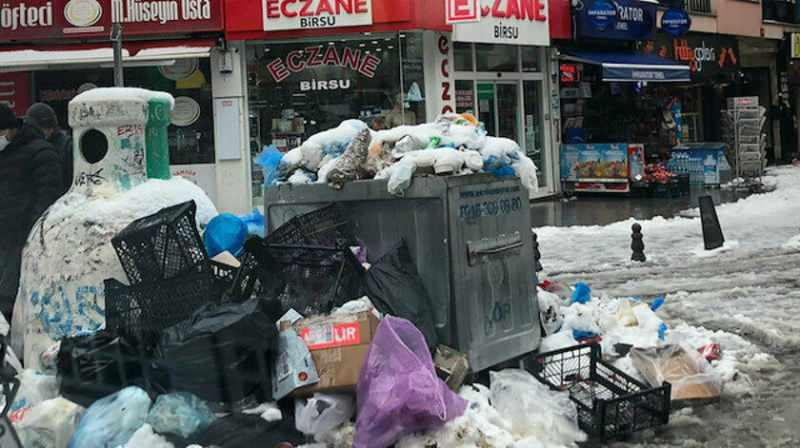Container: (264, 181, 548, 365)
Garbage: (258, 209, 438, 355), (280, 117, 548, 177), (359, 305, 464, 448), (290, 290, 411, 400), (533, 348, 666, 445), (162, 315, 267, 407), (95, 371, 204, 448), (43, 319, 137, 397), (637, 330, 725, 413), (494, 368, 580, 444), (208, 203, 264, 272), (13, 398, 85, 448), (615, 299, 678, 353), (313, 124, 355, 190), (308, 382, 342, 439), (388, 161, 418, 197), (564, 275, 588, 311), (574, 322, 599, 347)
